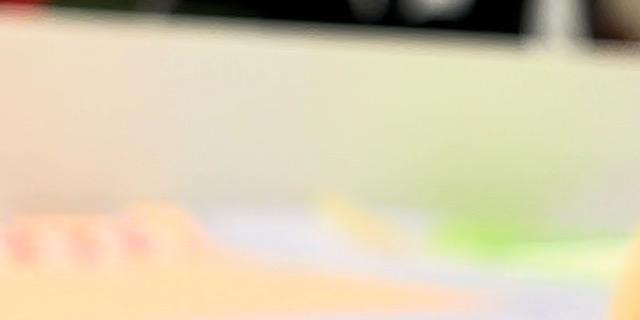burger: (480, 0, 640, 320)
